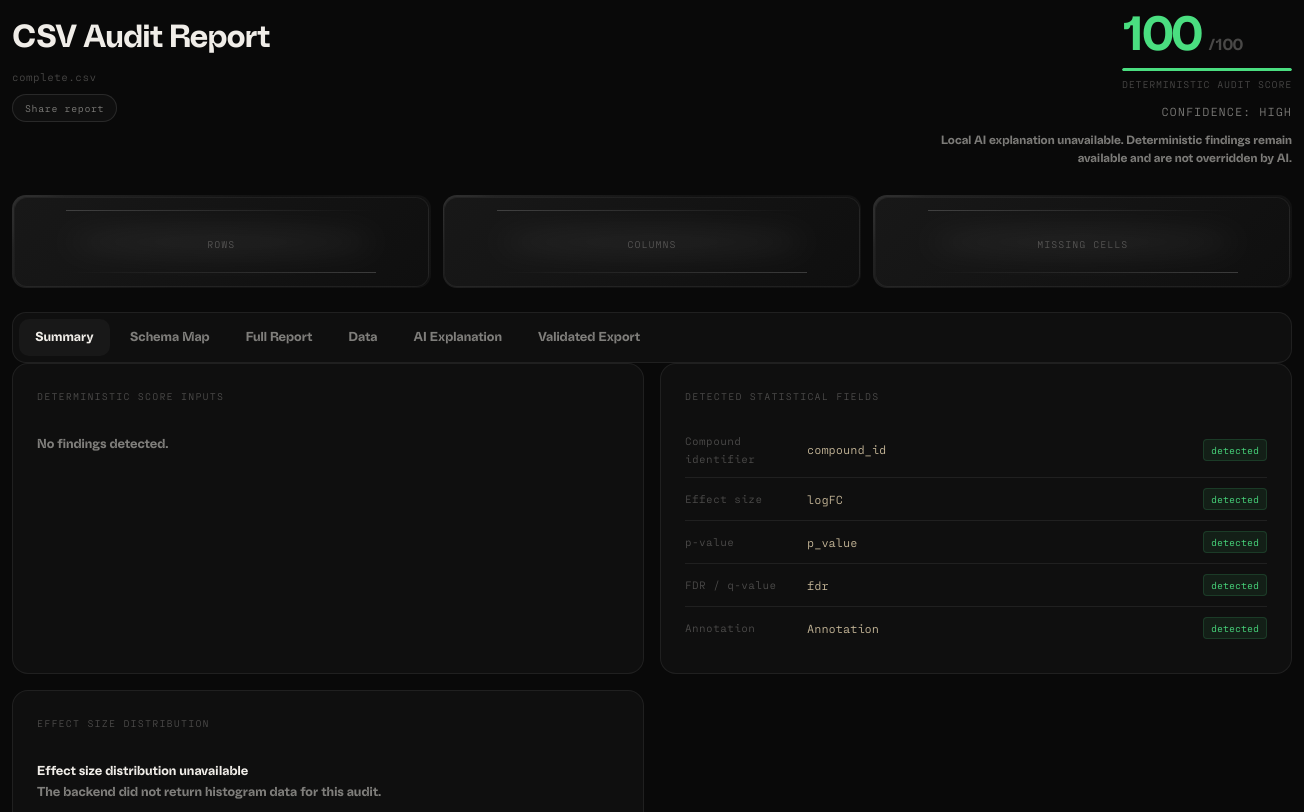
Test: AuditResults › renders p-value and FDR preview values from the canonical view model
This screenshot has width=1304, height=812.
Step 1. Click the button "Data" → (363, 338), box 332,319 -> 394,356
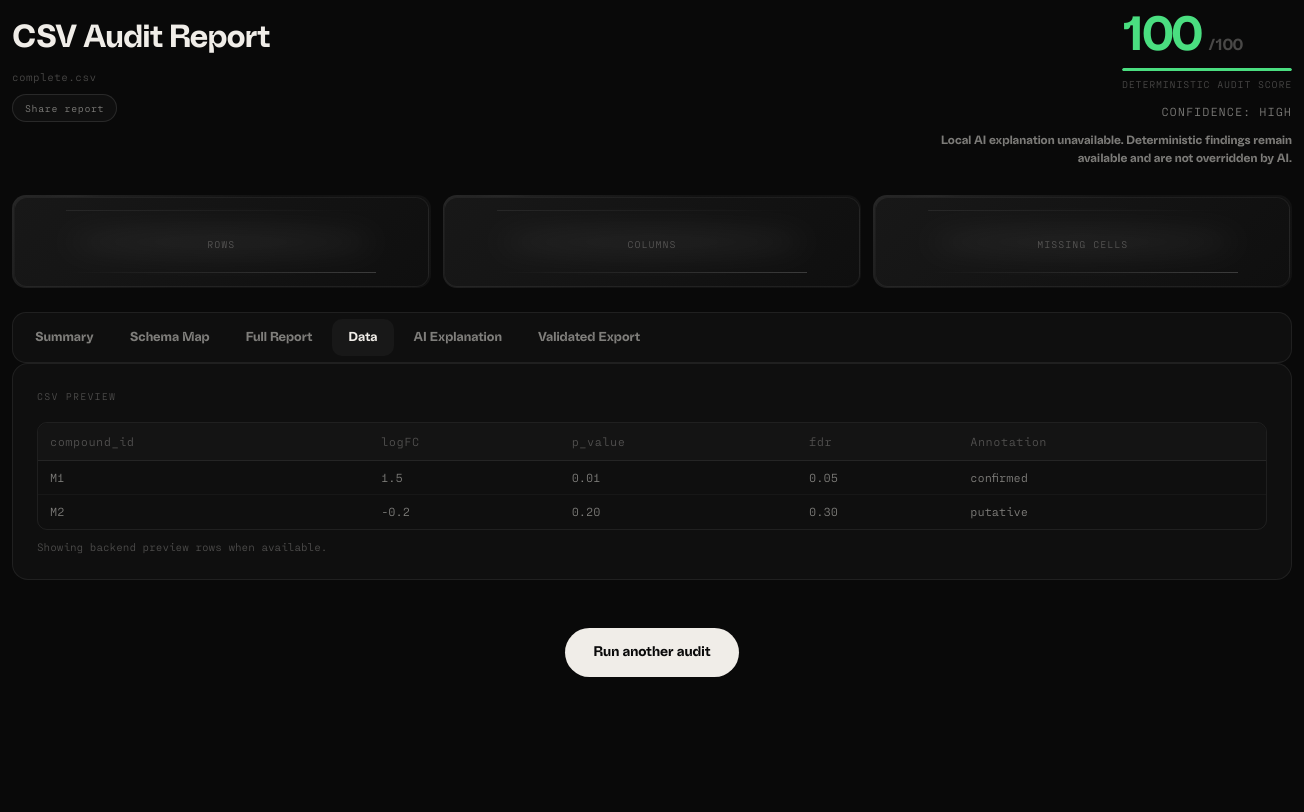
Expected: the column heading "p_value" is shown, 560,423 -> 797,461
Now the text "0.01" is shown, box 560,461 -> 797,495
Now the text "0.05" is shown, box 797,461 -> 958,495
